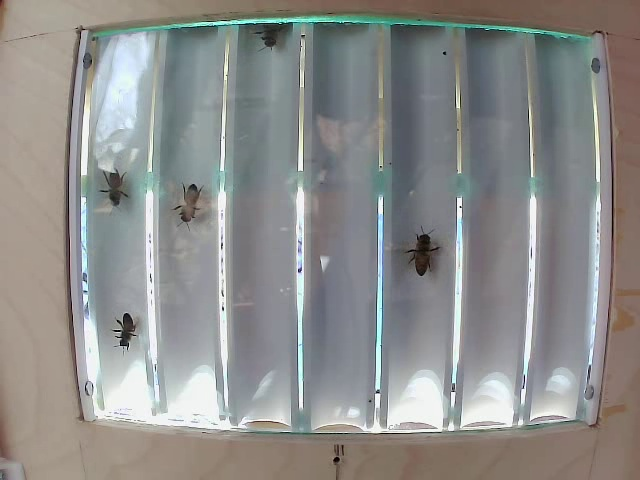bee: (88, 167, 144, 222), (399, 225, 441, 292), (172, 187, 209, 241), (109, 302, 147, 349), (256, 18, 292, 65)
